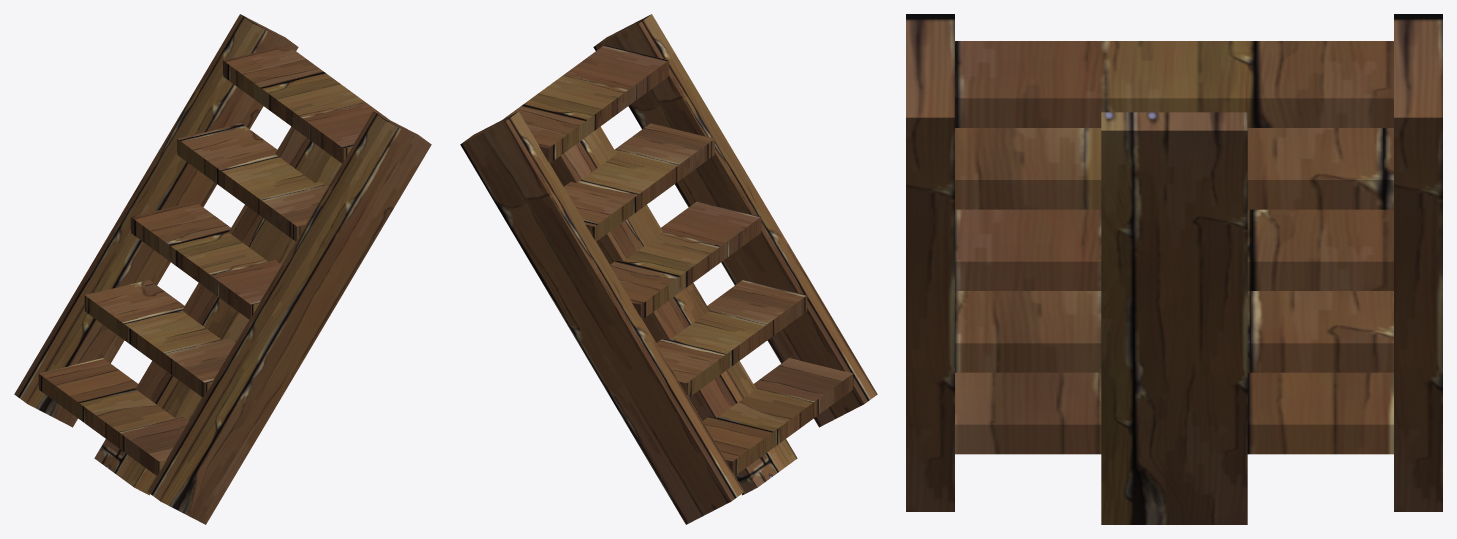
Rendered from stairs short.fbx.
The picture shows the model from 3 angles, left to right: view 1: azimuth 30°, elevation 25°; view 2: azimuth 150°, elevation 25°; view 3: azimuth 270°, elevation 25°; orthographic projection. The views are drawn at different scales.
Visible parts, largest first — view 1: Cube_1, Cube, Cube_2, Cube_2_6, Cube_2_5, Cube_2_4, Cube_2_3, Cube_2_2; view 2: Cube, Cube_1, Cube_2, Cube_2_6, Cube_2_5, Cube_2_4, Cube_2_3, Cube_2_2; view 3: Cube_2, Cube_2_6, Cube, Cube_1, Cube_2_2, Cube_2_3, Cube_2_5, Cube_2_4.
Boxes of the visible parts, left/top/right/bottom form: Cube_1: left=147, top=111, right=431, bottom=524; Cube: left=14, top=14, right=298, bottom=427; Cube_2: left=94, top=126, right=341, bottom=495; Cube_2_6: left=223, top=45, right=389, bottom=163; Cube_2_5: left=177, top=123, right=327, bottom=241; Cube_2_4: left=130, top=201, right=281, bottom=319; Cube_2_3: left=84, top=280, right=235, bottom=397; Cube_2_2: left=38, top=358, right=188, bottom=475; Cube: left=460, top=111, right=744, bottom=524; Cube_1: left=593, top=14, right=877, bottom=427; Cube_2: left=550, top=126, right=797, bottom=495; Cube_2_6: left=502, top=45, right=668, bottom=163; Cube_2_5: left=564, top=123, right=714, bottom=241; Cube_2_4: left=610, top=201, right=761, bottom=319; Cube_2_3: left=656, top=280, right=807, bottom=397; Cube_2_2: left=703, top=358, right=853, bottom=475; Cube_2: left=1101, top=112, right=1247, bottom=524; Cube_2_6: left=955, top=41, right=1393, bottom=127; Cube: left=1394, top=14, right=1442, bottom=511; Cube_1: left=906, top=14, right=954, bottom=511; Cube_2_2: left=955, top=372, right=1393, bottom=454; Cube_2_3: left=955, top=291, right=1393, bottom=372; Cube_2_5: left=955, top=128, right=1393, bottom=209; Cube_2_4: left=955, top=209, right=1393, bottom=290.
Size of the model in its own units: 212 by 275 by 198.
Materials: 1 (1 with a texture image).
